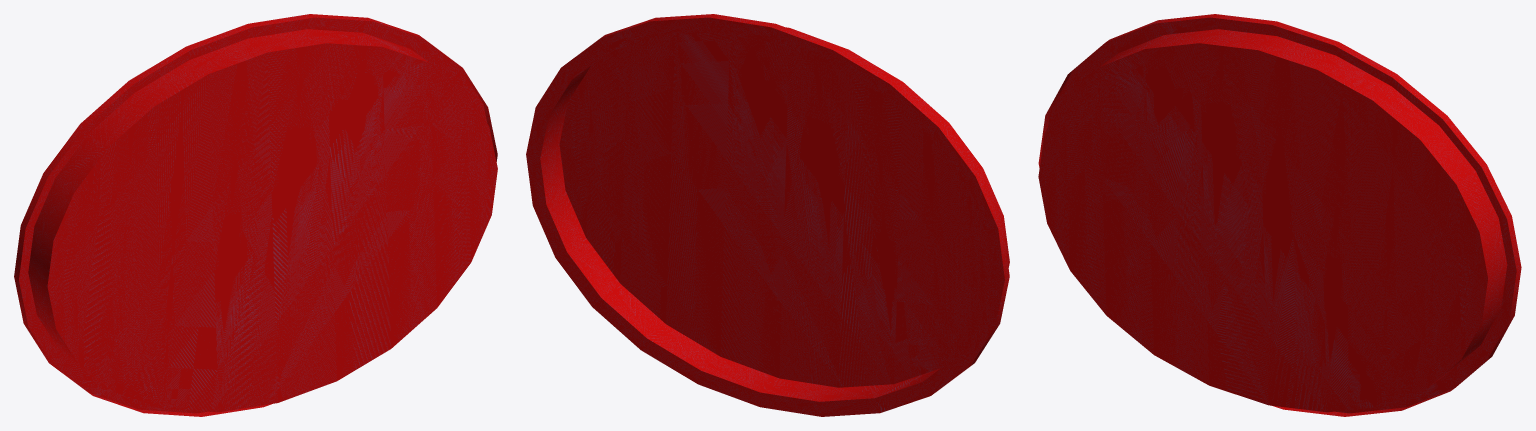
The model's file is original-73.obj.
3 views of the same model, side by side, from view 1: azimuth 30°, elevation 25°; view 2: azimuth 150°, elevation 25°; view 3: azimuth 330°, elevation 25° (orthographic).
Visible parts, largest first — view 1: mesh52/mesh52-geometry/material_6/component_5#mesh52-geometry; view 2: mesh52/mesh52-geometry/material_6/component_5#mesh52-geometry; view 3: mesh52/mesh52-geometry/material_6/component_5#mesh52-geometry.
Part boxes in pixels (x1,y1,x2,y2): mesh52/mesh52-geometry/material_6/component_5#mesh52-geometry: (14,14,497,416); mesh52/mesh52-geometry/material_6/component_5#mesh52-geometry: (526,14,1009,416); mesh52/mesh52-geometry/material_6/component_5#mesh52-geometry: (1038,14,1521,416).
Bounding box in the file's own units: 0.1089 × 0.0831 × 0.00756.
